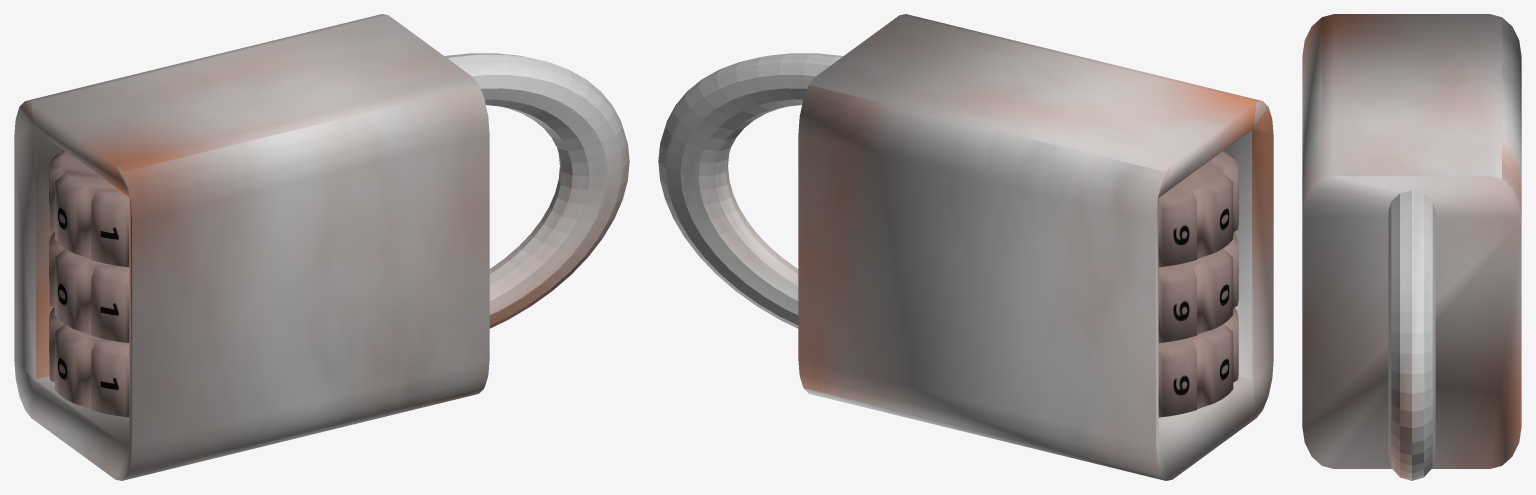
Rendered from Combination Lock.fbx.
The picture shows the model from 3 angles, left to right: view 1: azimuth 30°, elevation 25°; view 2: azimuth 150°, elevation 25°; view 3: azimuth 270°, elevation 25°; orthographic projection. The views are drawn at different scales.
Parts seen in each view (by area): view 1: Body, Clasp, Comb4, Comb2, Comb3; view 2: Body, Clasp, Comb4, Comb2, Comb3; view 3: Body, Clasp.
Part boxes in pixels (bbox=[...]): Body: bbox=[14, 14, 489, 480]; Clasp: bbox=[444, 53, 629, 328]; Comb4: bbox=[49, 150, 129, 267]; Comb2: bbox=[49, 232, 129, 342]; Comb3: bbox=[49, 307, 129, 417]; Body: bbox=[798, 14, 1273, 480]; Clasp: bbox=[658, 53, 843, 328]; Comb4: bbox=[1158, 150, 1238, 267]; Comb2: bbox=[1158, 232, 1238, 343]; Comb3: bbox=[1158, 307, 1238, 417]; Body: bbox=[1302, 14, 1521, 468]; Clasp: bbox=[1388, 190, 1435, 480].
Size of the model in its own units: 366 by 195 by 132.
